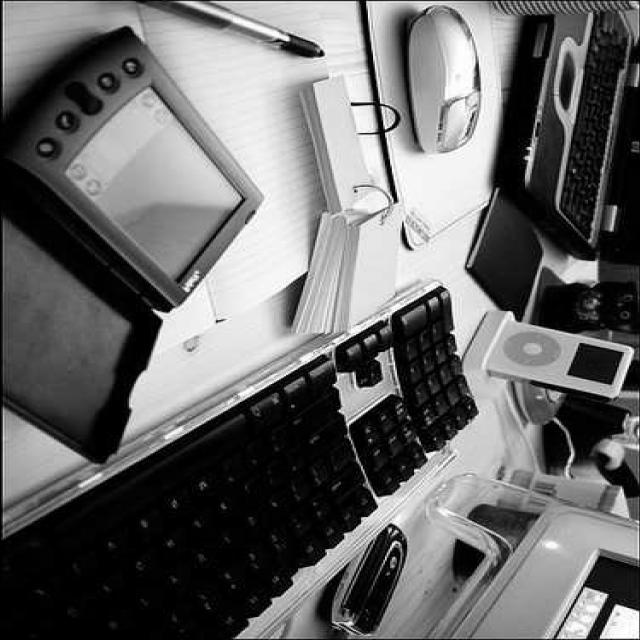laptop: (501, 3, 638, 266)
